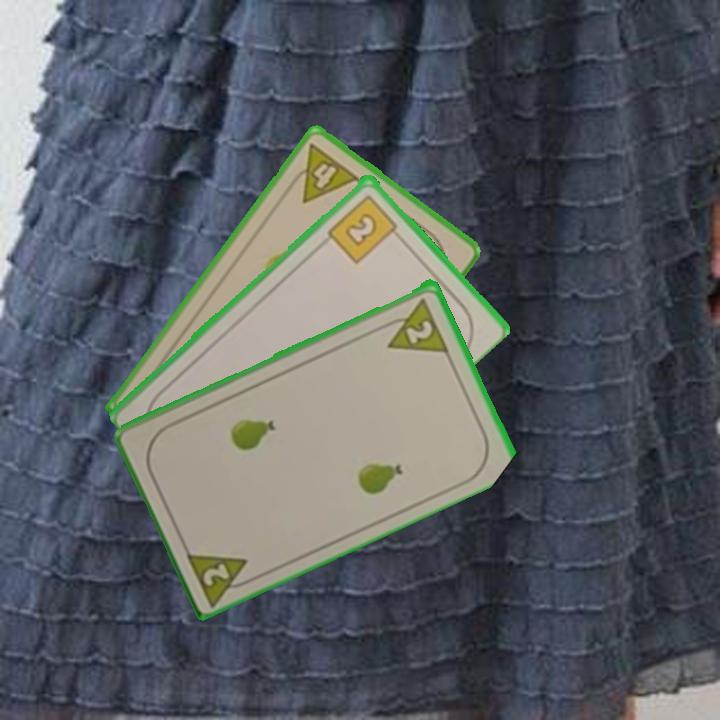2b: (324, 190, 404, 266)
2p: (182, 545, 260, 607), (402, 315, 436, 346)
4p: (282, 140, 362, 206)
